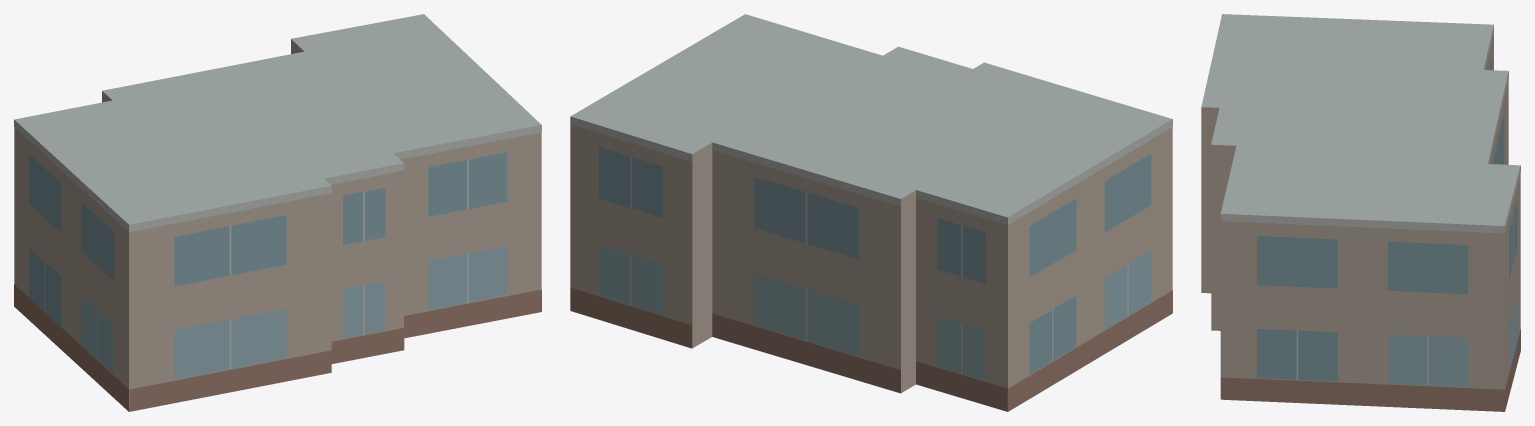
The model's file is survey-upis-33027194.glb.
The picture shows the model from 3 angles, left to right: view 1: azimuth 30°, elevation 25°; view 2: azimuth 150°, elevation 25°; view 3: azimuth 270°, elevation 25°; orthographic projection. The views are drawn at different scales.
Parts seen in each view (by area): view 1: survey-upis-33027194.tmp; view 2: survey-upis-33027194.tmp; view 3: survey-upis-33027194.tmp.
Part boxes in pixels (x1=…): survey-upis-33027194.tmp: x1=14, y1=14, x2=541, y2=411; survey-upis-33027194.tmp: x1=570, y1=14, x2=1172, y2=411; survey-upis-33027194.tmp: x1=1201, y1=14, x2=1520, y2=411.
Bounding box in the file's own units: 14.94 × 6.1 × 9.51.
